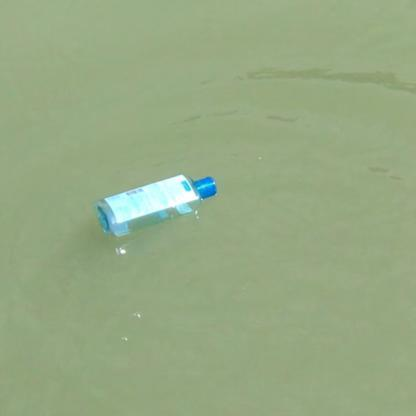plastic bottle: (96, 175, 218, 234)
